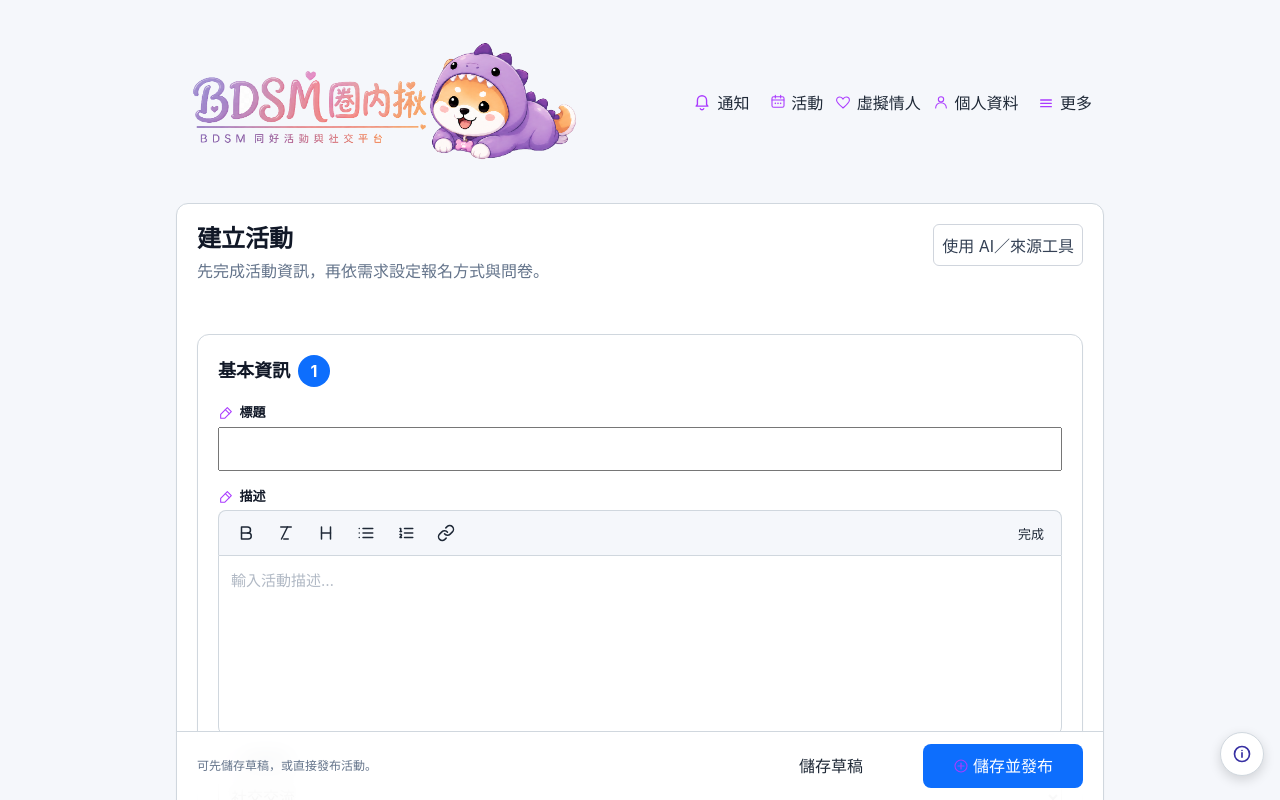
CreateEventPage › previews a BDSM calendar URL and applies editable metadata
Click the button "使用 AI／來源工具" at coordinates (1008, 245), box [933,224,1083,266]
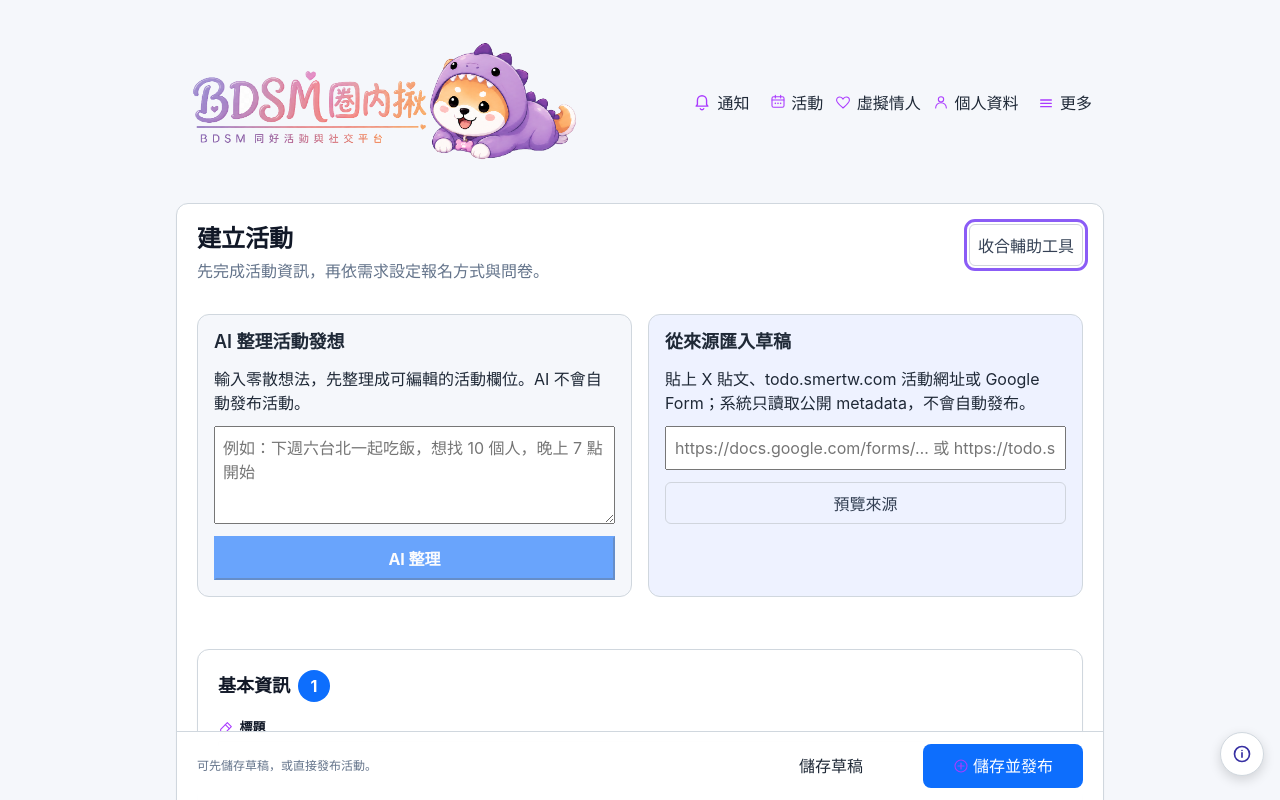
Type "https://todo.smertw.com/events/6382" into the field named "公開活動來源網址" at coordinates (866, 448), box [665,426,1066,470]
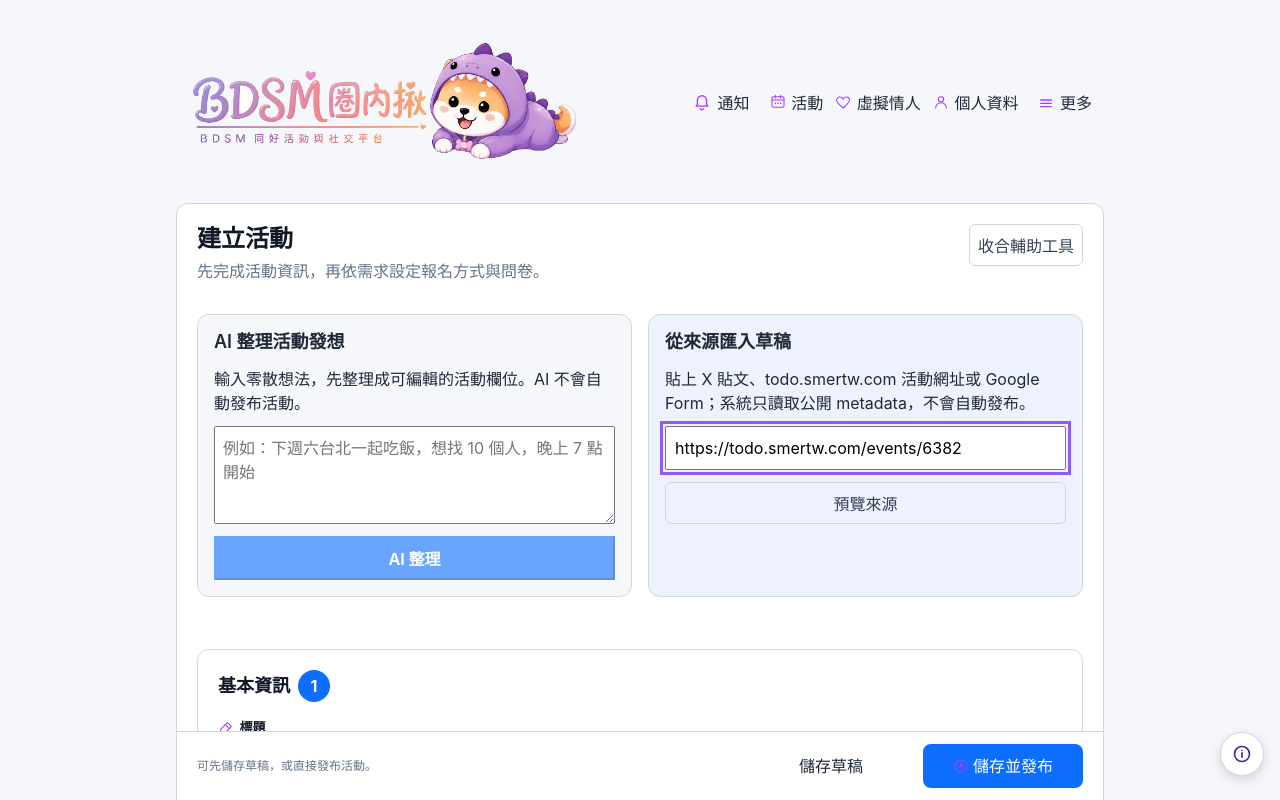
Click the button "預覽來源" at coordinates (866, 503), box [665,482,1066,524]
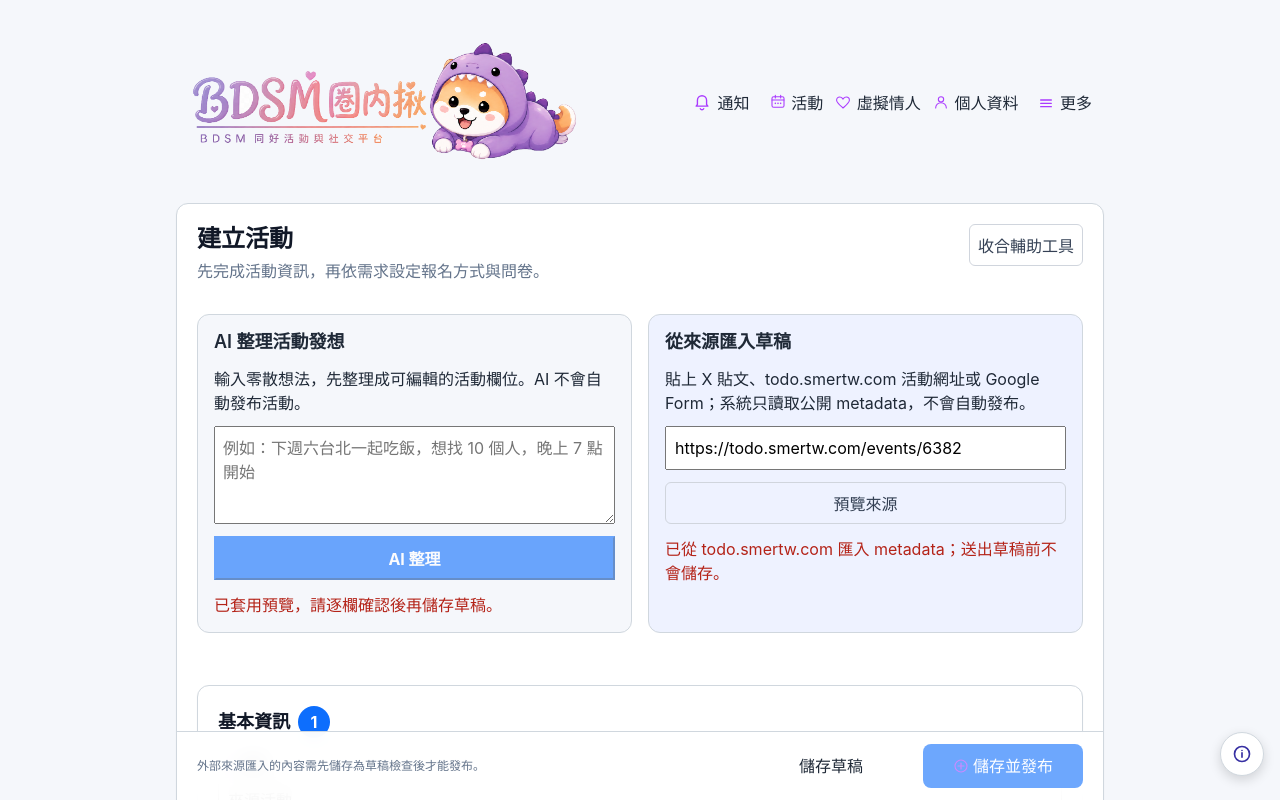
expect the message shows "todo.smertw.com": met, box [665,539,1057,583]
